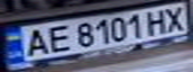0: (109, 15, 130, 42)
1: (124, 11, 148, 38), (90, 17, 112, 45)
8: (72, 19, 96, 48)
A: (18, 26, 51, 57)
E: (42, 22, 75, 54)
H: (142, 7, 172, 35)
X: (160, 3, 190, 32)
